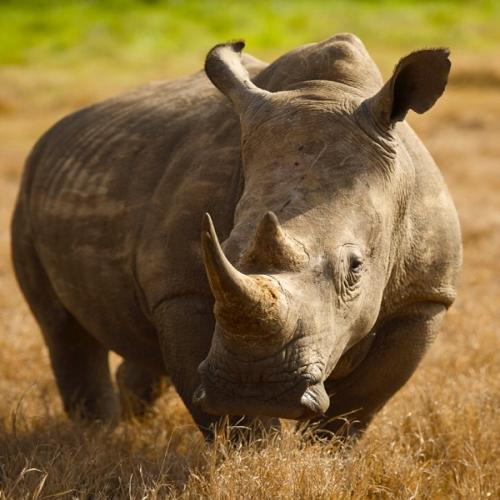rhino-endangered: (12, 32, 471, 444)
